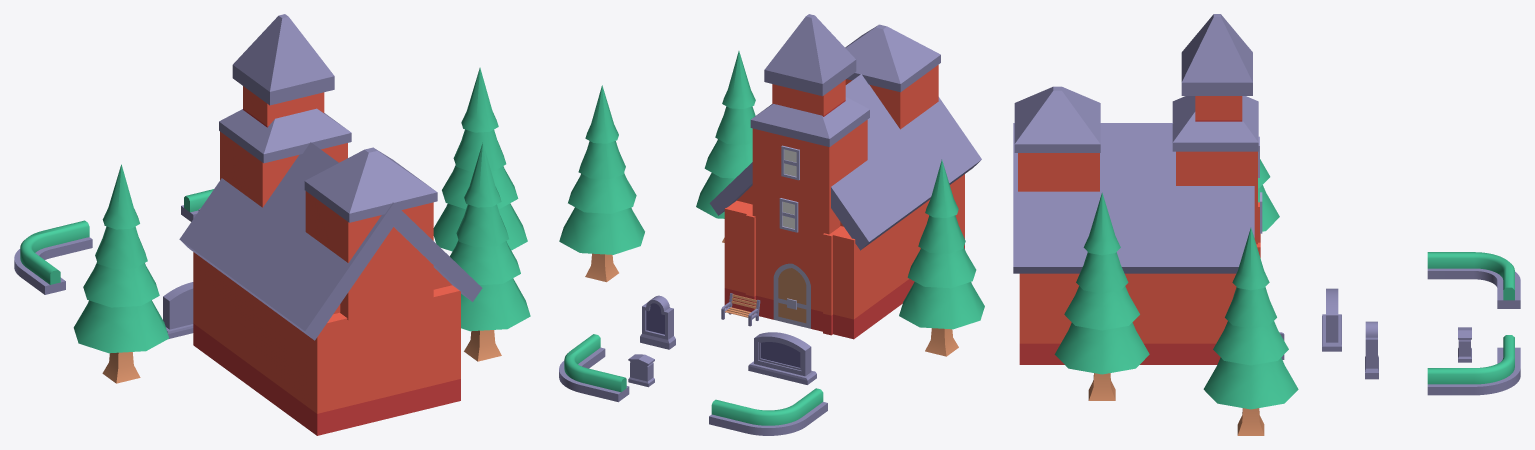
The model's file is church.glb.
3 views of the same model, side by side, from view 1: azimuth 30°, elevation 25°; view 2: azimuth 150°, elevation 25°; view 3: azimuth 270°, elevation 25° (orthographic). The views are drawn at different scales.
Visible parts, largest first — view 1: mergedBlocks(Clone); view 2: mergedBlocks(Clone); view 3: mergedBlocks(Clone).
Boxes of the visible parts, <box> form: mergedBlocks(Clone): <box>14,14,530,435</box>; mergedBlocks(Clone): <box>559,14,984,435</box>; mergedBlocks(Clone): <box>1013,14,1520,435</box>.
Size of the model in its own units: 1.08 by 0.7932 by 1.09.
